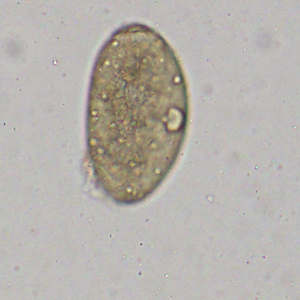Fasciola_hepatica_egg: (84, 20, 190, 209)
